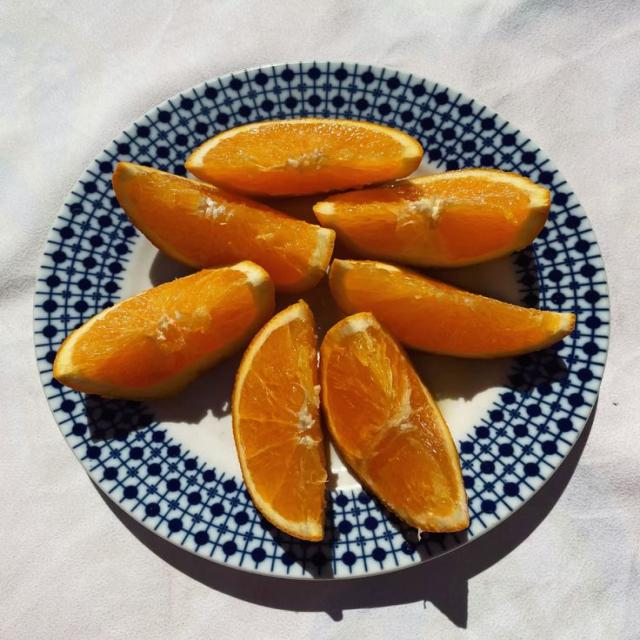orange: (320, 313, 468, 532), (54, 262, 273, 399), (114, 162, 334, 292), (330, 260, 574, 358), (314, 169, 550, 266), (233, 301, 326, 540), (186, 119, 422, 196)
